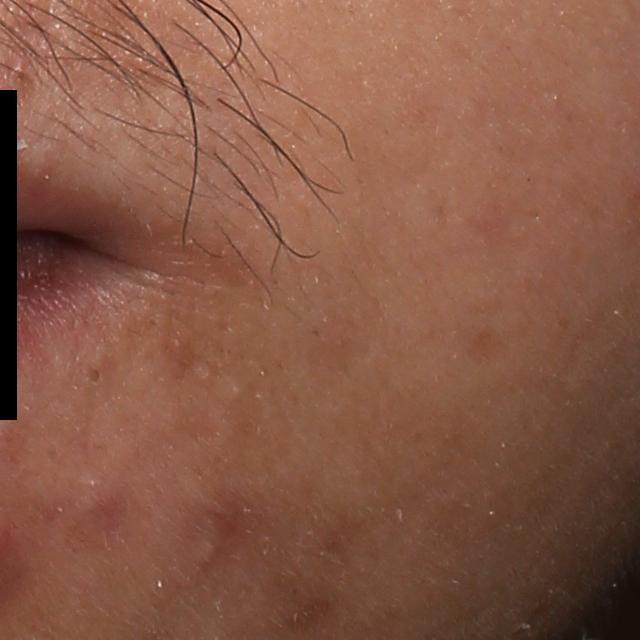comedo: (190, 537, 217, 566), (84, 365, 106, 386)
papule: (55, 466, 131, 554)
